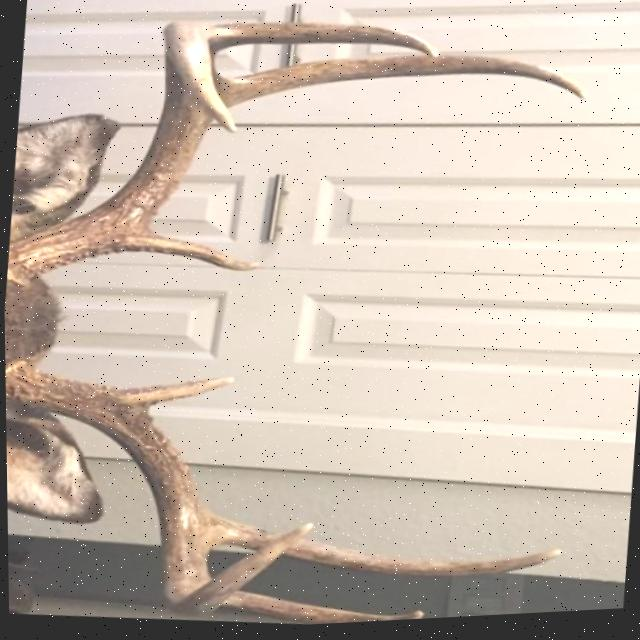L-F: (4, 359, 312, 620)
L-G1: (121, 377, 235, 409)
R-F: (6, 19, 236, 283)
R-G1: (125, 229, 259, 273)
R-G3: (207, 23, 438, 62)
